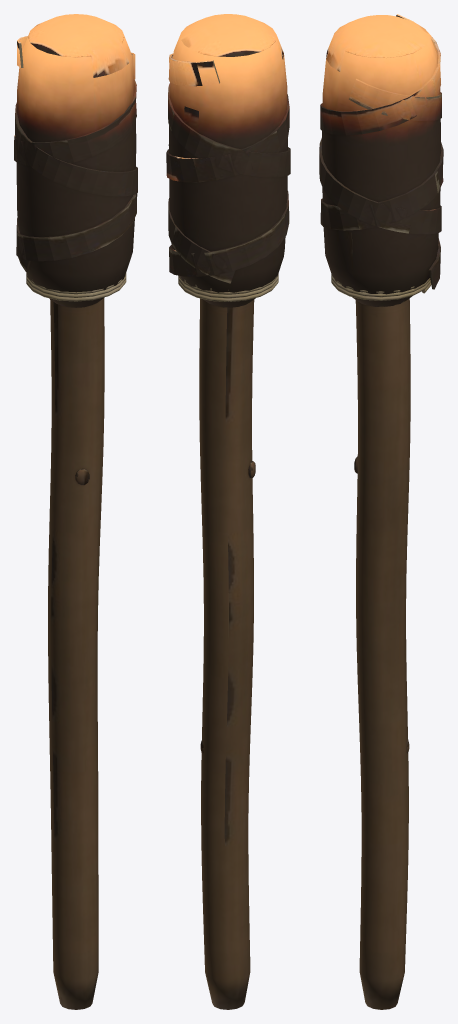
The model's file is torch.glb.
The picture shows the model from 3 angles, left to right: view 1: azimuth 90°, elevation 25°; view 2: azimuth 150°, elevation 25°; view 3: azimuth 330°, elevation 25°; orthographic projection.
Visible parts, largest first — view 1: Handle, Wrap; view 2: Handle, Wrap; view 3: Handle, Wrap.
Boxes of the visible parts, bbox=[...] form: Handle: bbox=[48, 298, 104, 1009]; Wrap: bbox=[14, 14, 137, 307]; Handle: bbox=[199, 298, 255, 1009]; Wrap: bbox=[166, 14, 290, 307]; Handle: bbox=[354, 298, 410, 1009]; Wrap: bbox=[319, 14, 443, 306].
Bounding box in the file's own units: 0.1495 × 1.3 × 0.1488.
2 materials, 2 textured.
